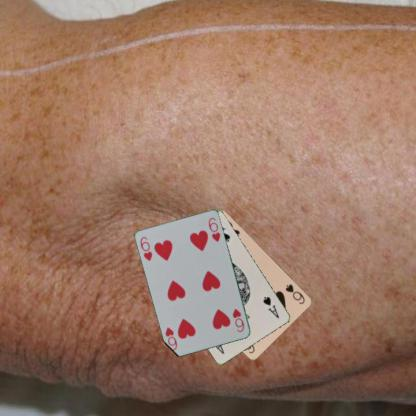6h: (230, 306, 246, 334), (138, 234, 154, 262)
6s: (283, 281, 306, 306)
As: (261, 294, 280, 320)
